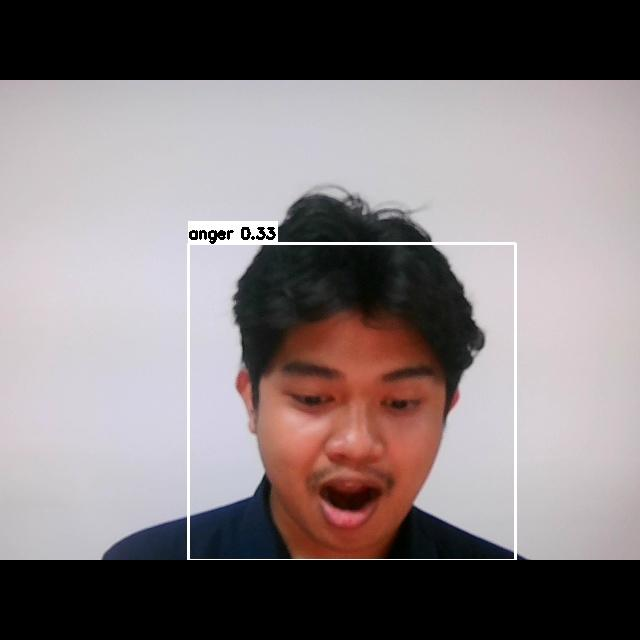Surprised: (259, 344, 457, 546)
